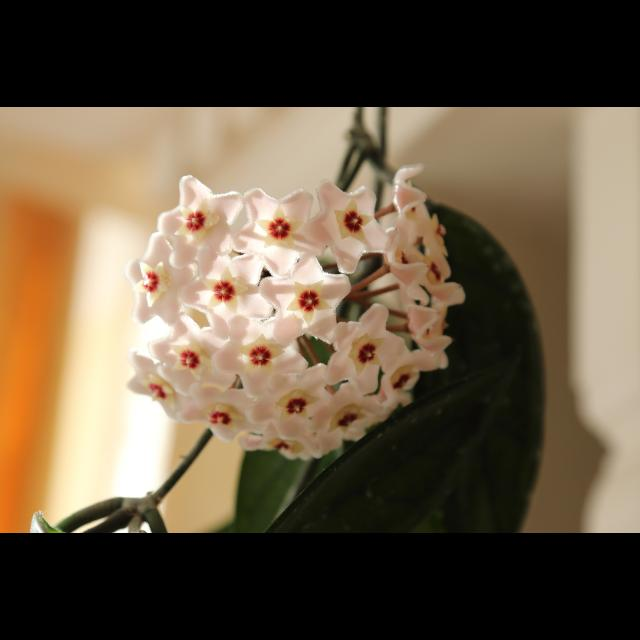Flower: (125, 164, 465, 460)
